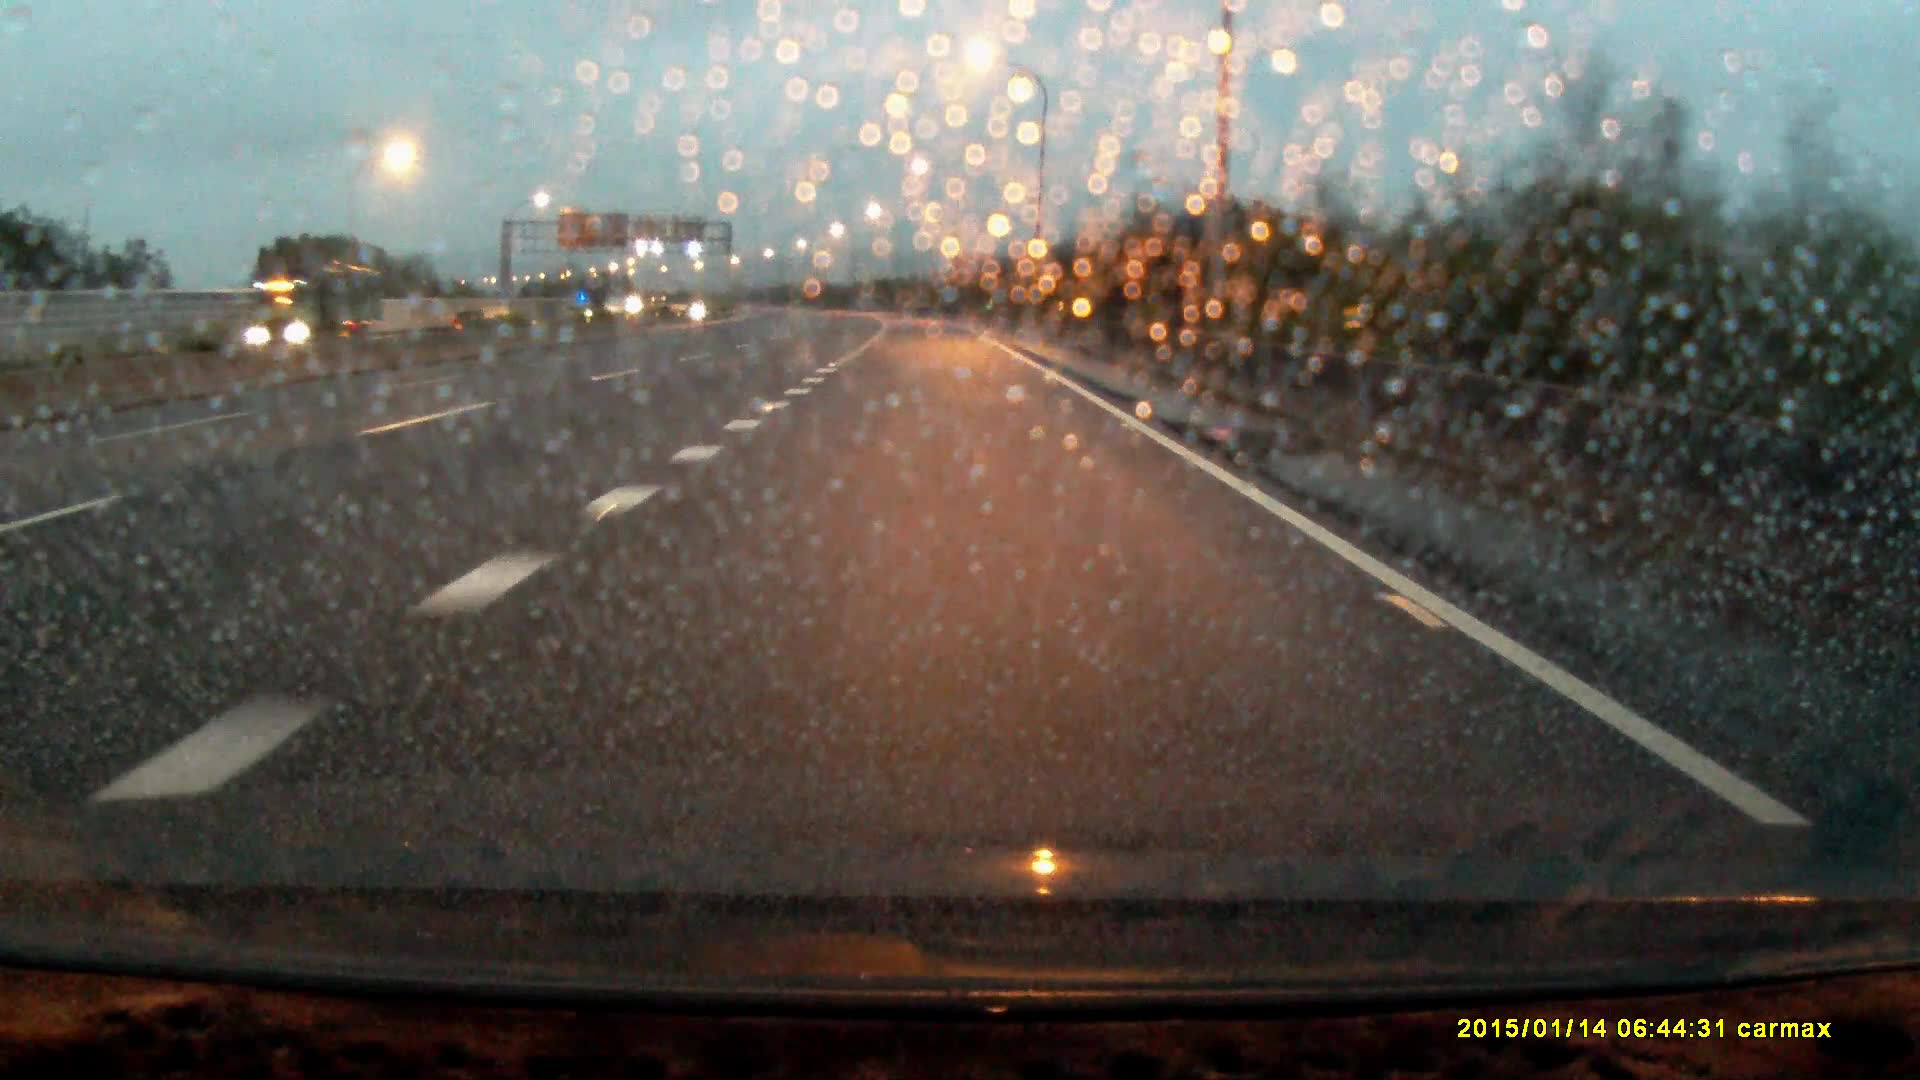vehicle: (245, 276, 378, 345)
